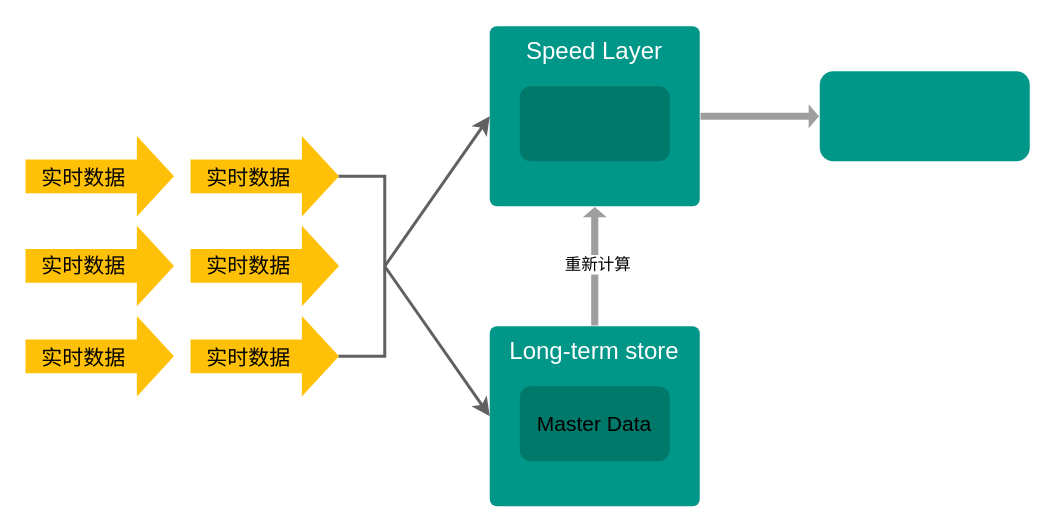
The diagram is 1056 pixels wide and 531 high, and some of its shapes have lost their labels. Each missing label, with the centre of its shape:
Analytics Client: (924,115)
Real-Time Views: (594,123)
